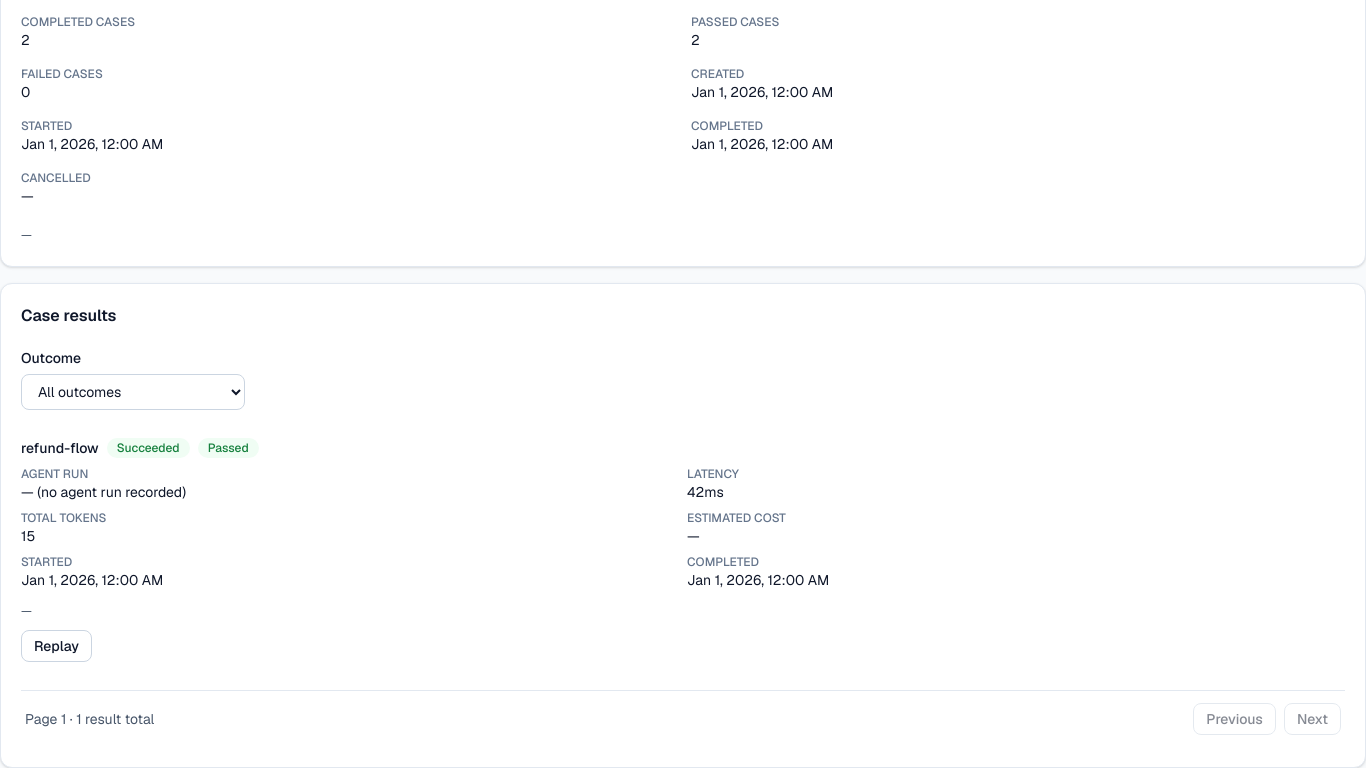
Test: Replay Result (Phase 23 Chunk 3) › blocks a duplicate replay submit while pending (mutation retry: 0)
(page scrolled)
Expected: the text "refund-flow" is shown, [21,438,99,458]
Click the button "Replay" at (56, 646), box [21,630,92,662]
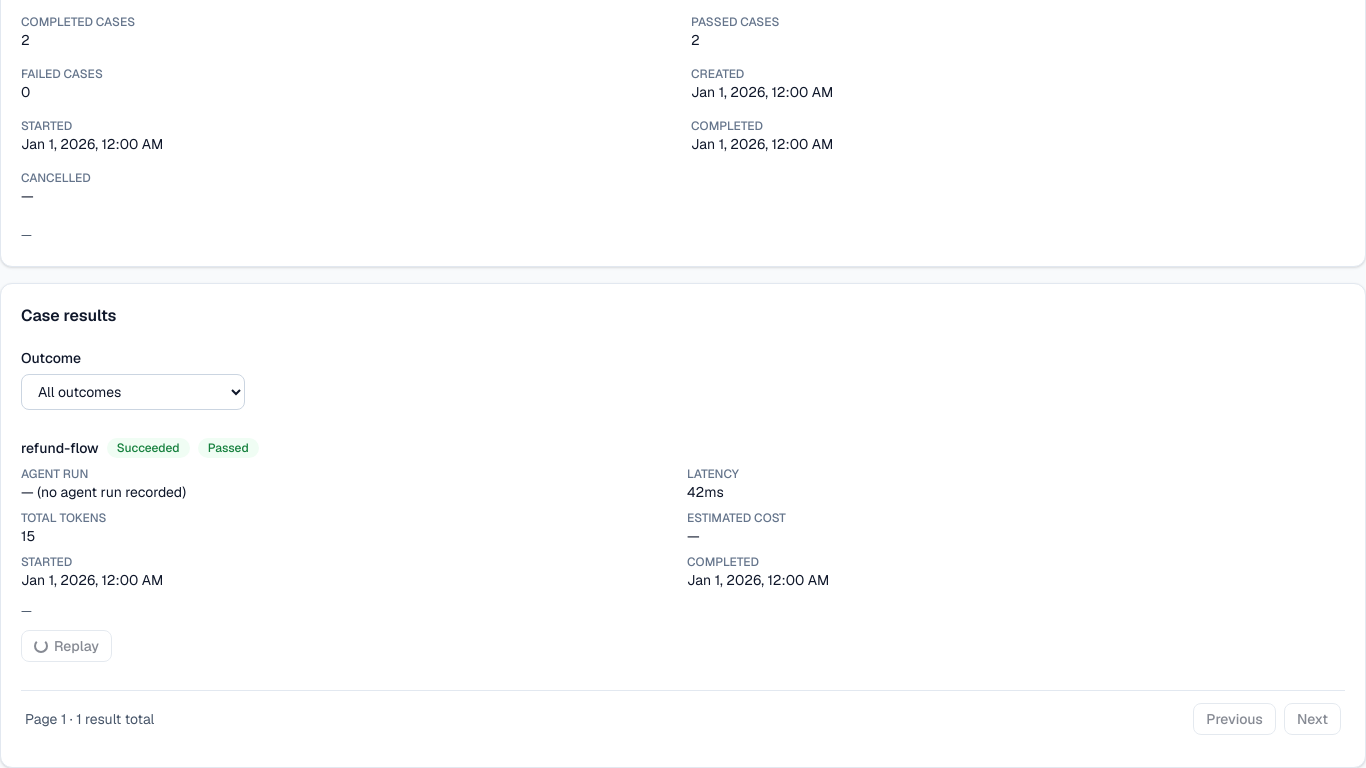
Expected: the button "Replay" is disabled
Click the button "Replay" at (66, 646), box [21,630,112,662]
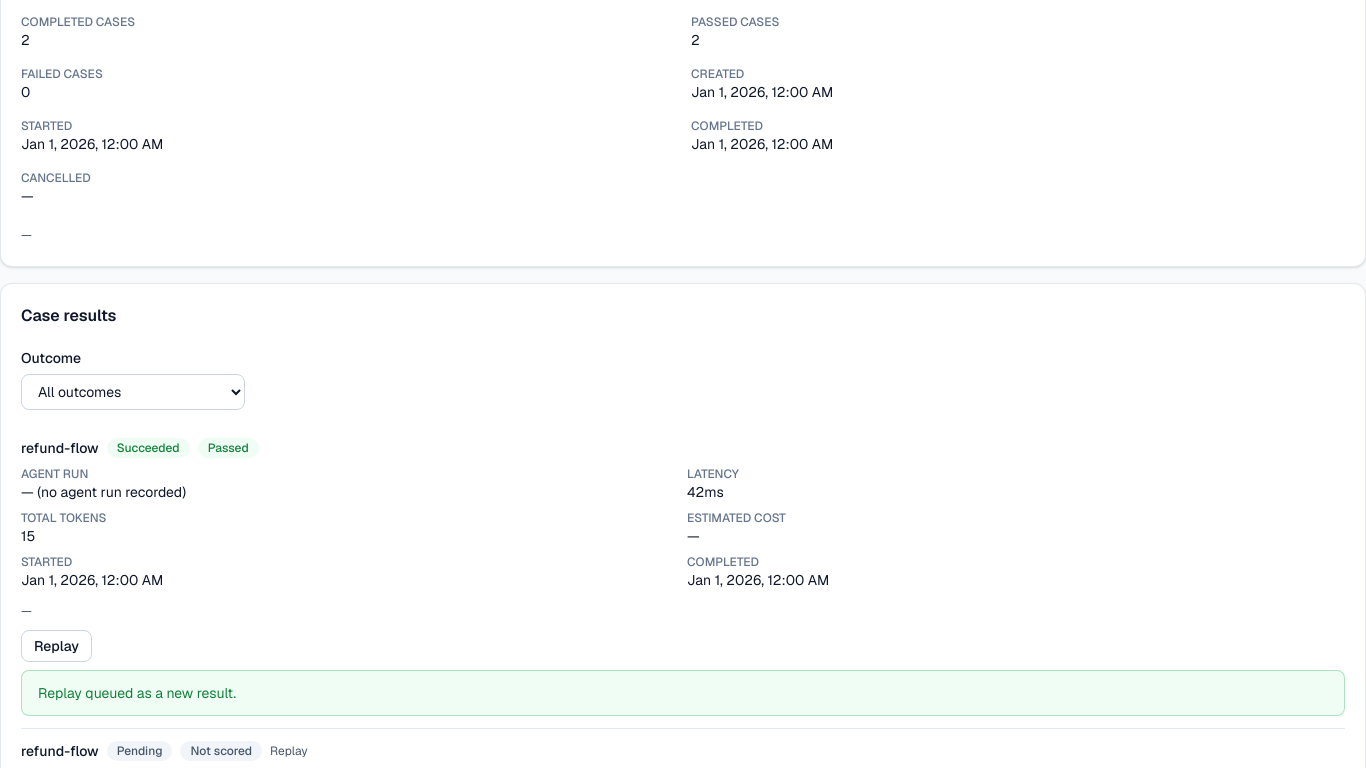
Expected: the text "Replay queued as a new result." is shown, [38,684,236,702]
